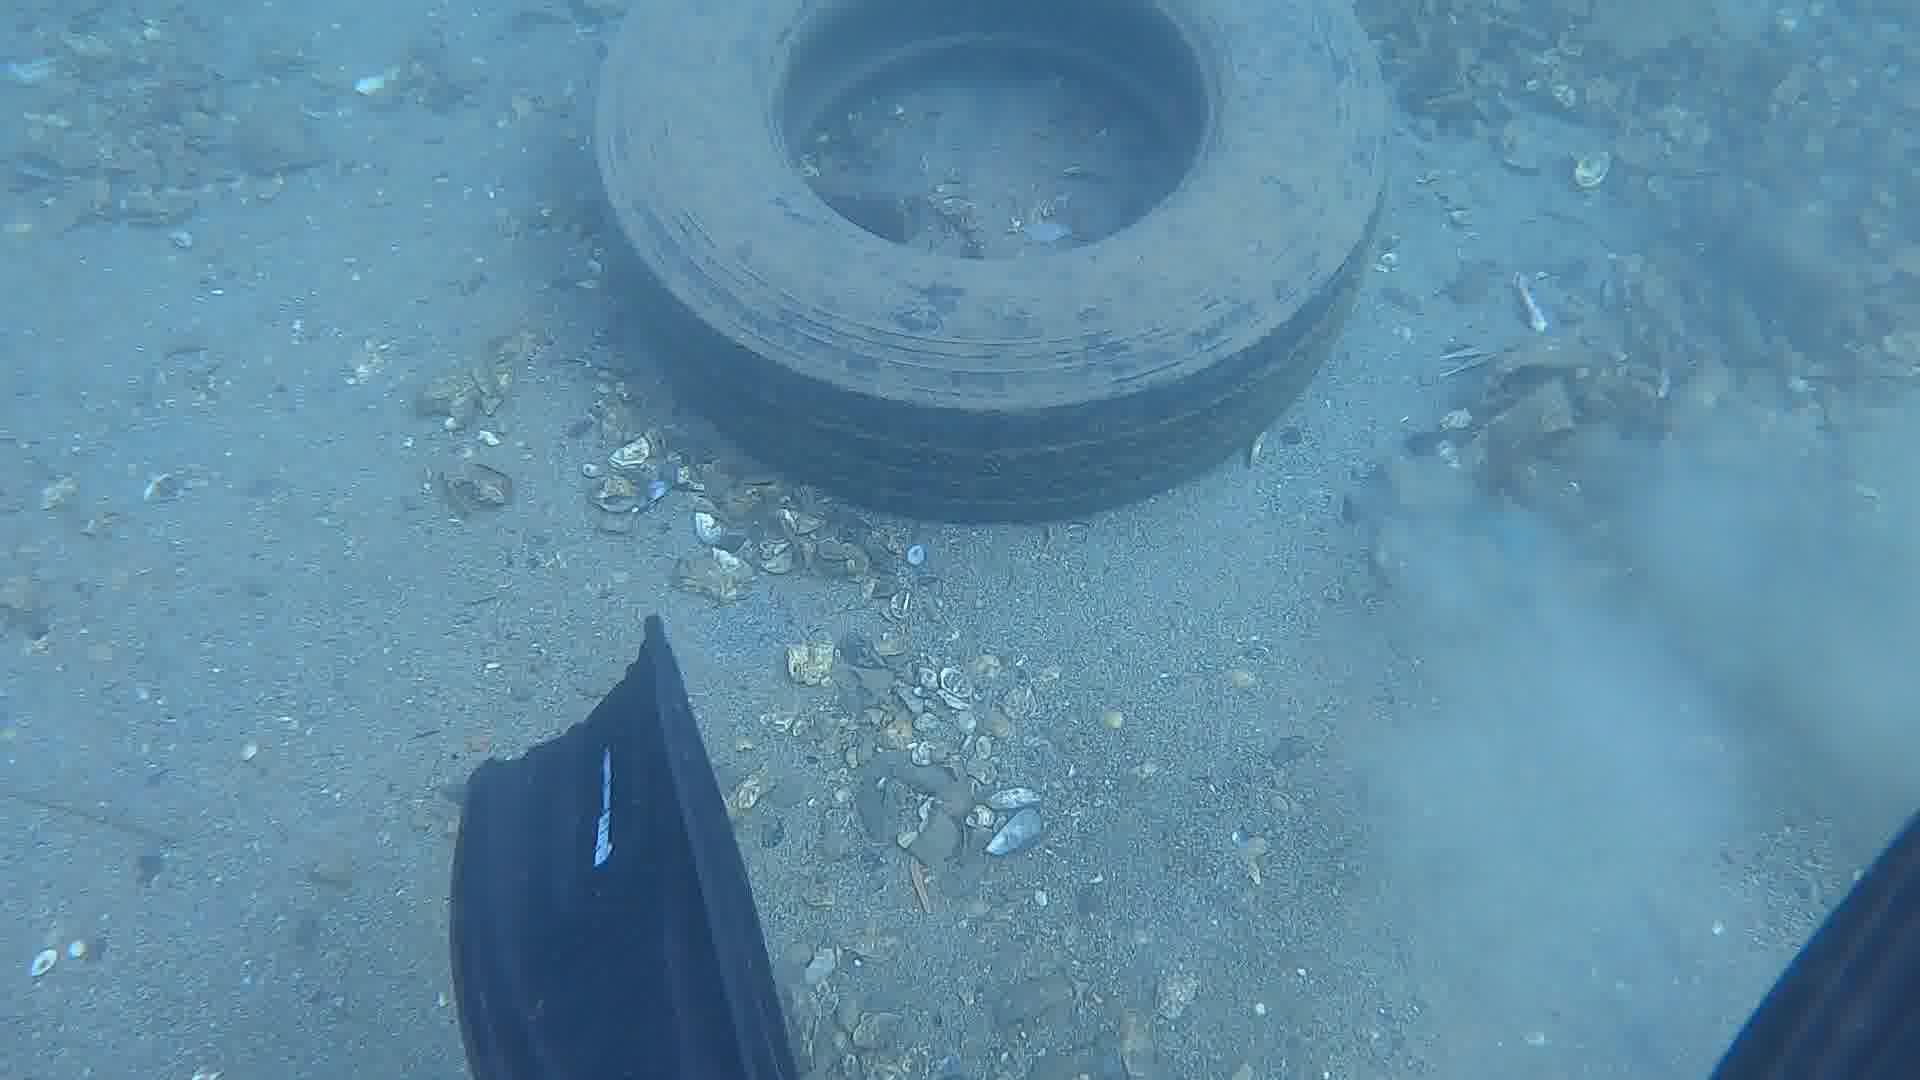tire: (593, 0, 1389, 517)
